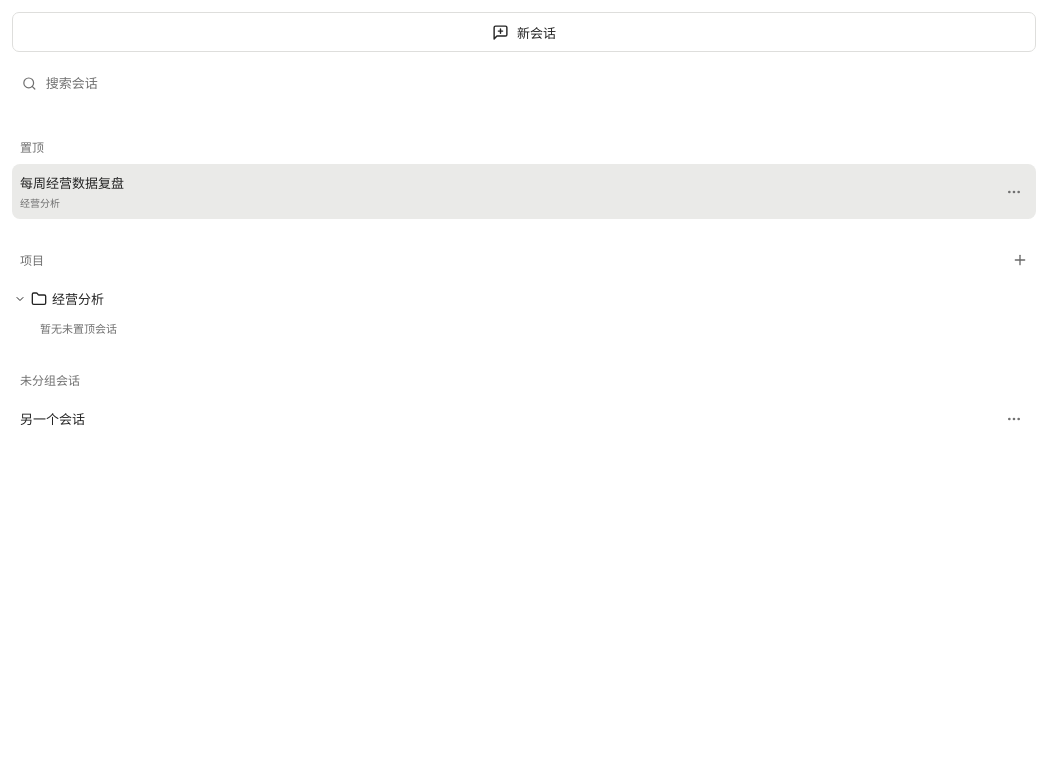
conversation sidebar › dismisses on outside interaction and keeps only the newly opened session menu
Click the button named "每周经营数据复盘的更多操作" at [1014, 192], box left=992, top=170, right=1036, bottom=214
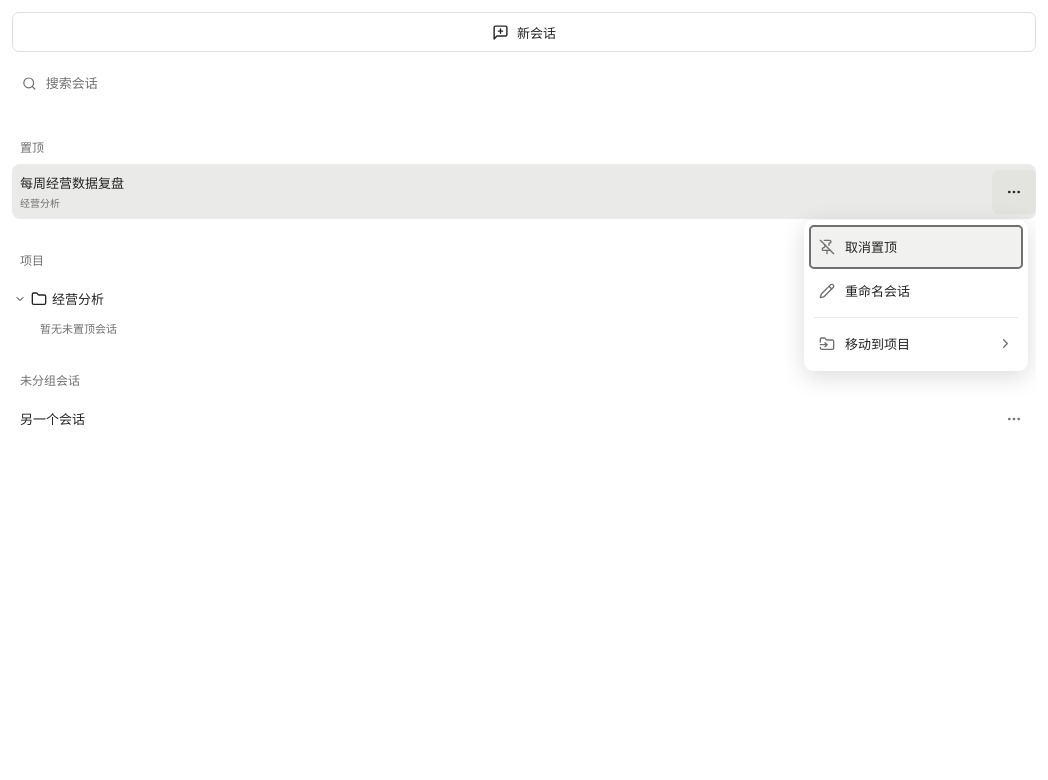
Press the mouse on the button named "另一个会话的更多操作" at [1014, 419], box left=992, top=397, right=1036, bottom=441
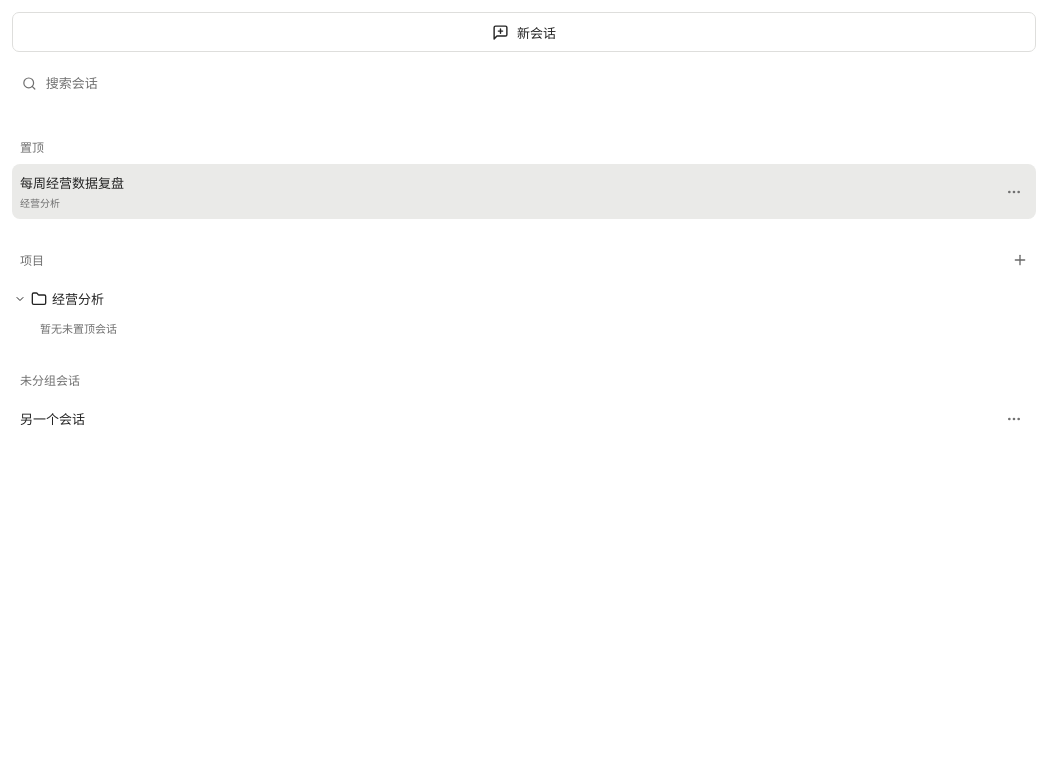
Click the button named "另一个会话的更多操作" at [1014, 419], box left=992, top=397, right=1036, bottom=441
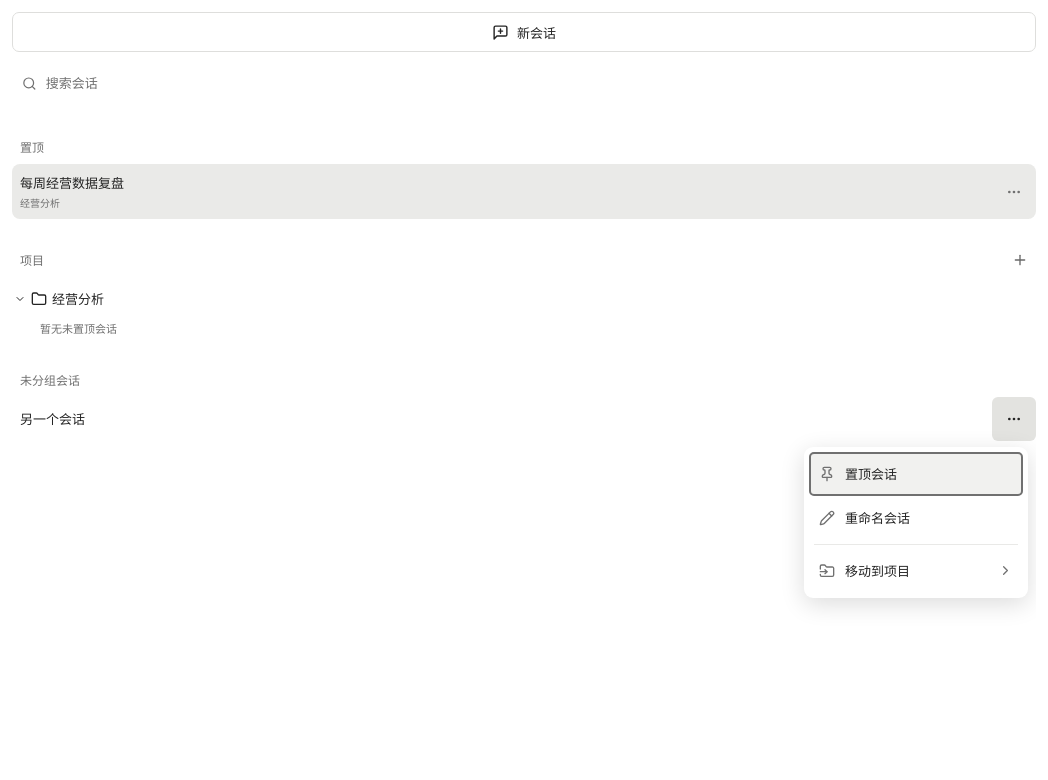
Check: the number of menus is 1, box left=804, top=447, right=1028, bottom=598
Press the mouse on the field labelled "搜索会话" at [536, 83], box left=46, top=70, right=1026, bottom=96
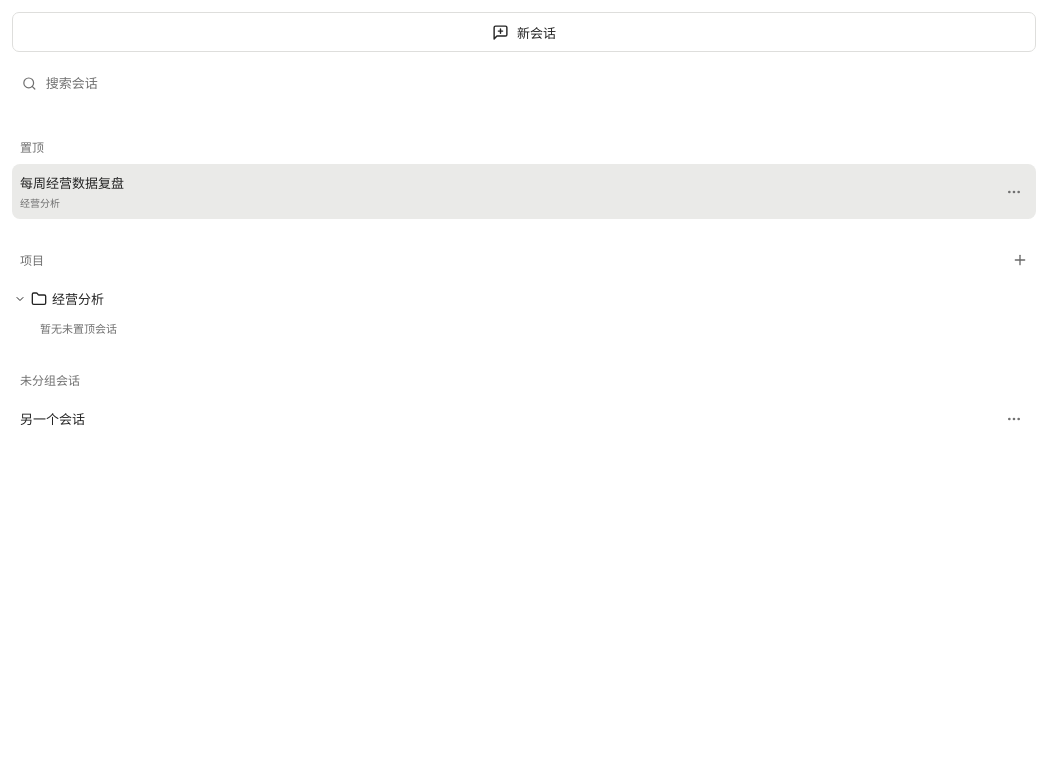
Check: the menu is gone
